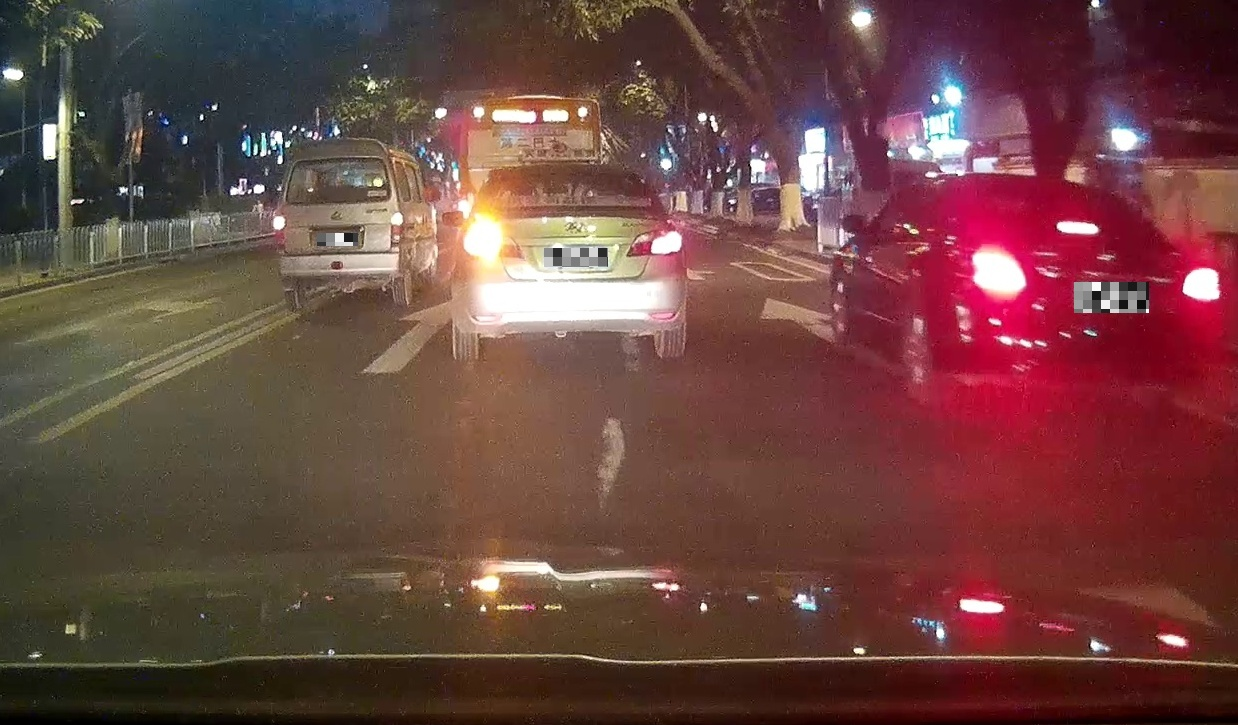L_light: (973, 254, 1027, 293), (459, 232, 525, 261), (274, 210, 285, 249)
R_light: (626, 229, 684, 256), (1184, 269, 1221, 299), (1054, 221, 1100, 236), (390, 212, 403, 247)
T_light: (556, 171, 585, 178), (326, 158, 345, 163)
day-brake: (954, 173, 1223, 402)
day-left: (449, 160, 687, 359)
night-no: (272, 137, 407, 309)
plate_1: (317, 233, 358, 246)
plate_2: (544, 248, 608, 267)
plate_3: (1074, 282, 1149, 313)
